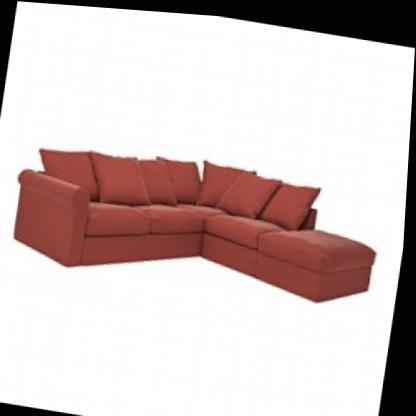Sofa: (0, 113, 397, 332)
